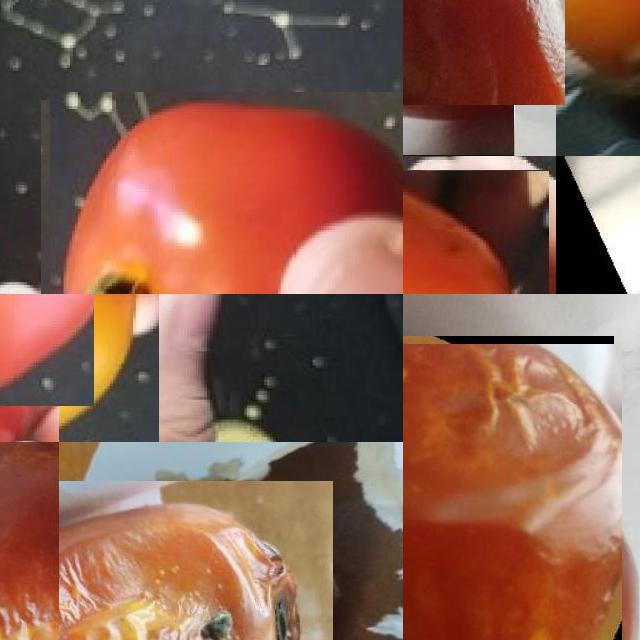0: (45, 96, 403, 294), (59, 294, 158, 442), (0, 294, 76, 424)
1: (59, 480, 332, 640)
Fresh Tomato: (403, 170, 548, 294)
Rotten Tomato: (403, 340, 618, 640), (403, 0, 539, 130)
